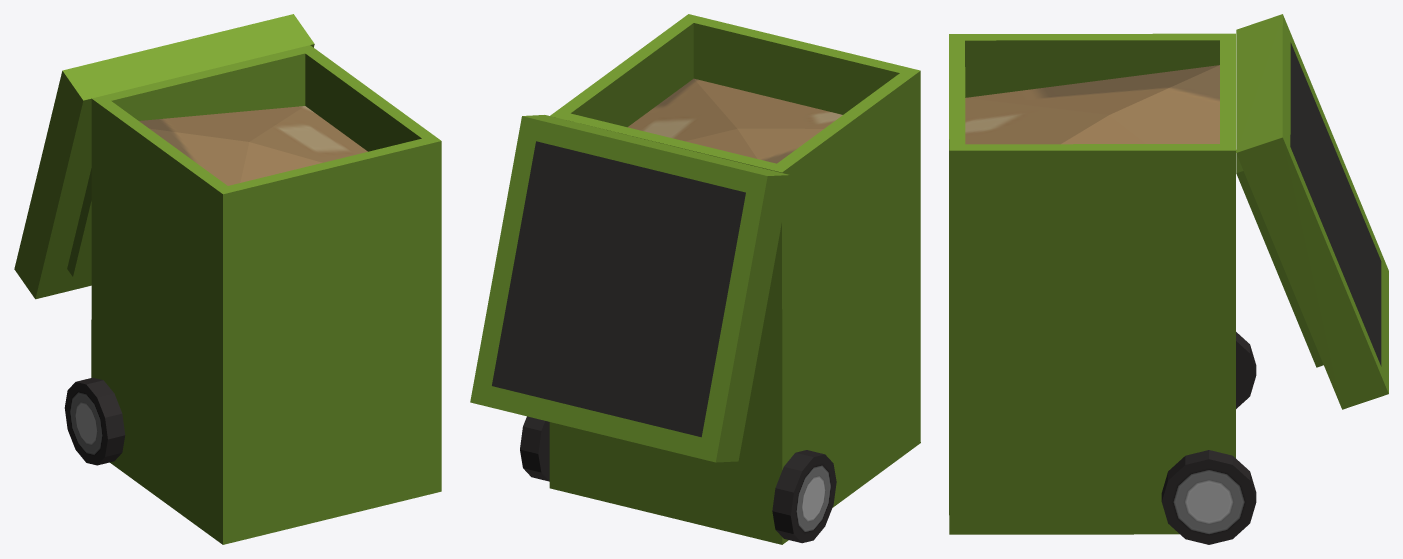
File: SM_WheelieBin_Open_01.fbx
3 renders of one model, left to right at view 1: azimuth 30°, elevation 25°; view 2: azimuth 150°, elevation 25°; view 3: azimuth 270°, elevation 25°, orthographic. The views are drawn at different scales.
Parts seen in each view (by area): view 1: SM_WheelieBin_Open_01; view 2: SM_WheelieBin_Open_01; view 3: SM_WheelieBin_Open_01.
Part boxes in pixels (x1,y1,x2,y2): SM_WheelieBin_Open_01: (14,14,441,544); SM_WheelieBin_Open_01: (470,14,920,544); SM_WheelieBin_Open_01: (949,14,1388,544).
Size of the model in its own units: 1.17 by 1.6 by 1.59.
